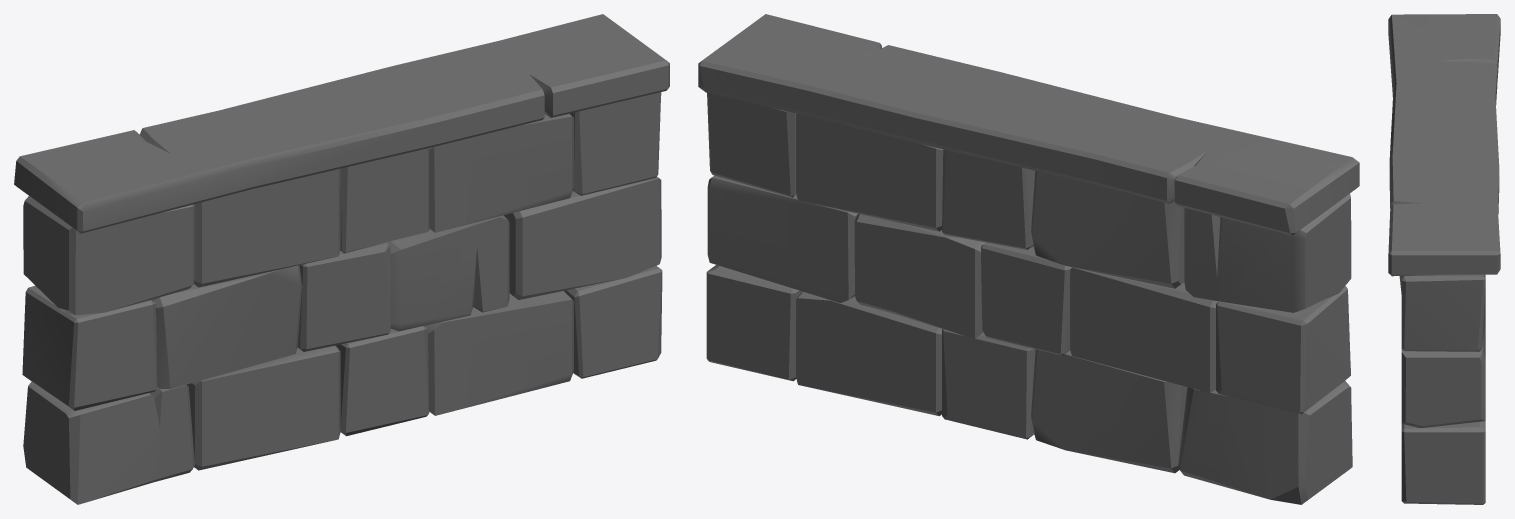
File: Assembled_Wall_2.fbx
3 renders of one model, left to right at view 1: azimuth 30°, elevation 25°; view 2: azimuth 150°, elevation 25°; view 3: azimuth 270°, elevation 25°, orthographic. The views are drawn at different scales.
Parts seen in each view (by area): view 1: Assembled_Wall_2, Stone_Slab1; view 2: Assembled_Wall_2, Stone_Slab1; view 3: Stone_Slab1, Assembled_Wall_2.
Boxes of the visible parts, left/top/right/bottom form: Assembled_Wall_2: left=22, top=92, right=662, bottom=504; Stone_Slab1: left=14, top=14, right=669, bottom=233; Assembled_Wall_2: left=706, top=93, right=1352, bottom=504; Stone_Slab1: left=698, top=14, right=1359, bottom=235; Stone_Slab1: left=1388, top=14, right=1500, bottom=276; Assembled_Wall_2: left=1399, top=274, right=1485, bottom=504.
Size of the model in its own units: 81.27 by 39.98 by 16.
